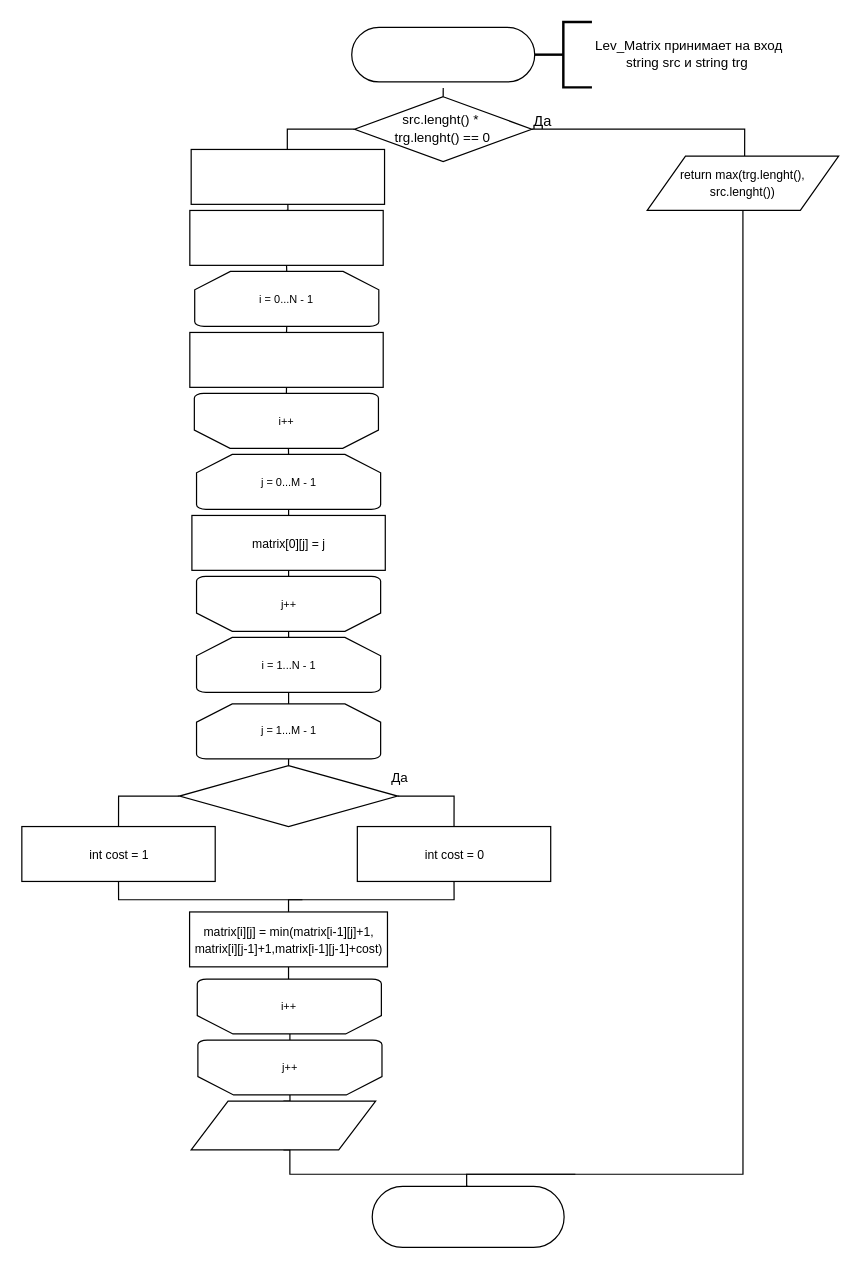
Some shapes in this 860 by 1269 pixel diagram are drawn without their labels. The centre of each missing label's shape, as x and y in pixels:
matrix[i][0] = i: the point at 286,359
return matrix[N-1][M-1]: the point at 283,1125
size_t N = src.lenght() + 1 size_t M = trg.lenght() + 1: the point at 287,176
src[i-1]==trg[j-1]: the point at 288,795
vector<vector<int>> matrix: the point at 286,237
Конец: the point at 467,1216
Начало: the point at 443,54
